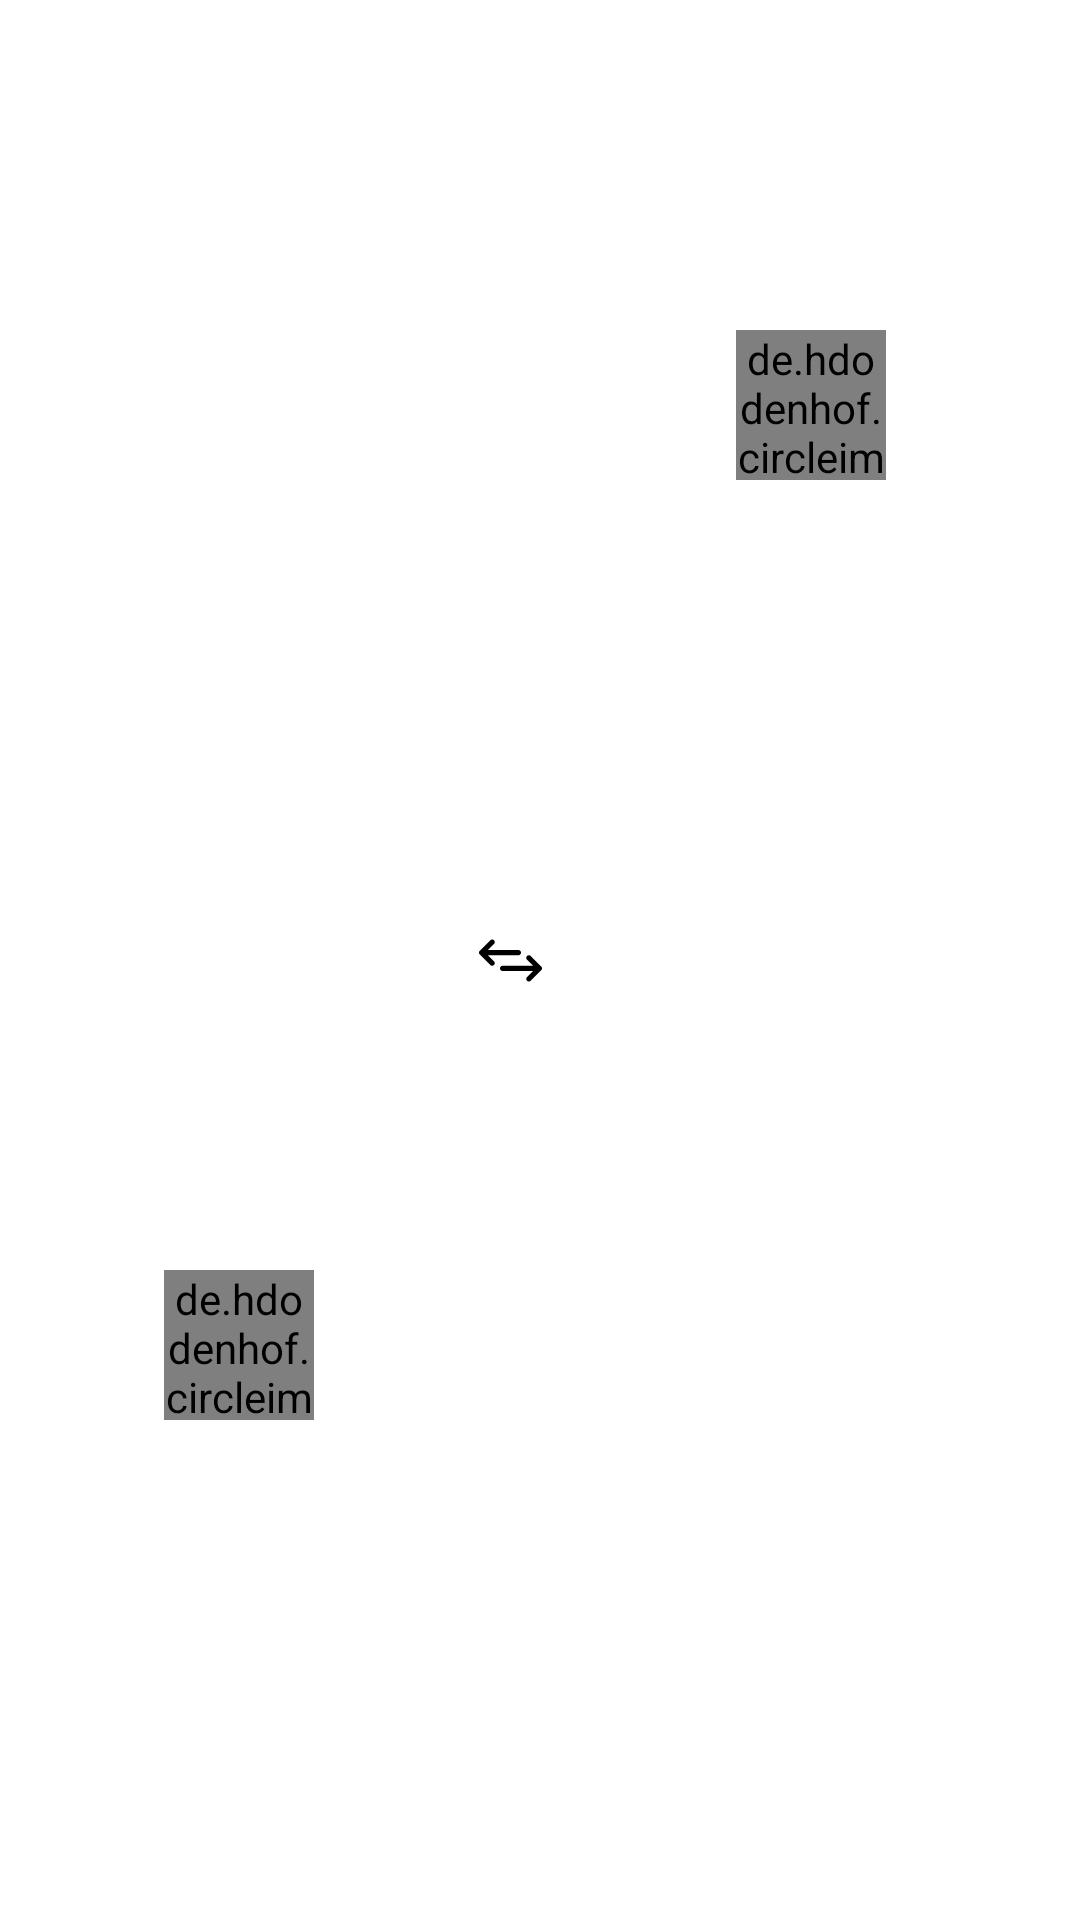

Screen size 1080 x 1920. Icon name, then its center in pixels as (x,y):
swap: (510,960)
